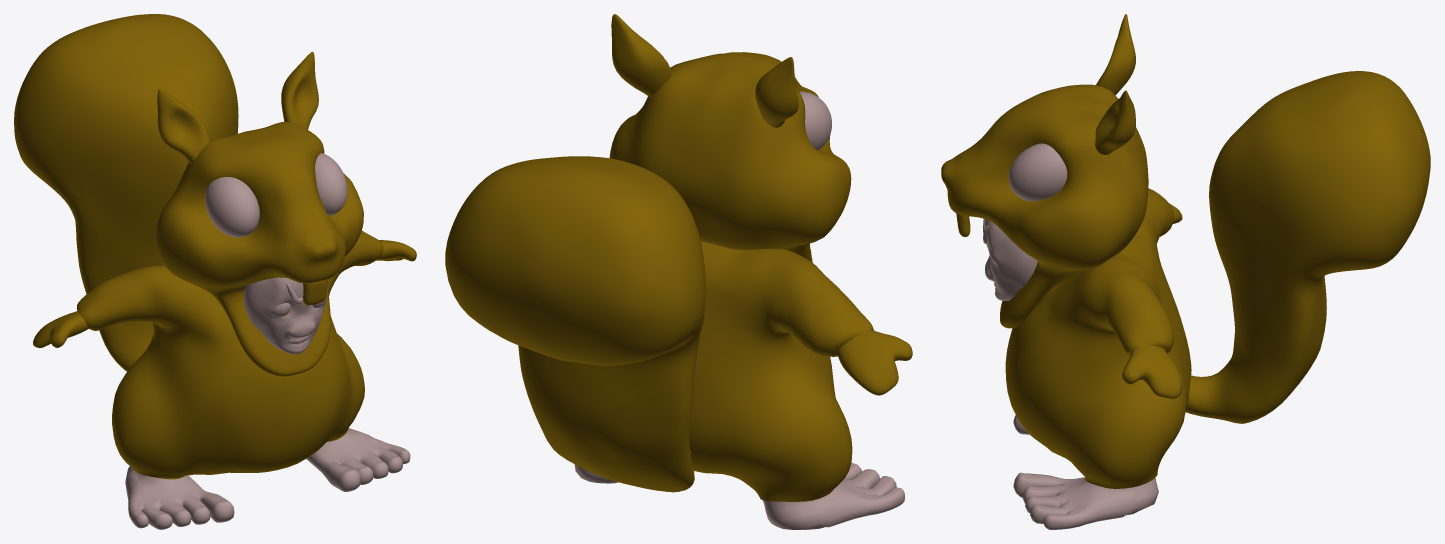
Rendered from Ecureuil_V5.fbx.
3 views of the same model, side by side, from view 1: azimuth 30°, elevation 25°; view 2: azimuth 150°, elevation 25°; view 3: azimuth 270°, elevation 25° (orthographic). The views are drawn at different scales.
Parts seen in each view (by area): view 1: PM3D_Cylinder3D1, polySurface5, PM3D_Cube3D1, polySurface9, PM3D_Sphere3D1_1, pCube2, polySurface8, polySurface7; view 2: PM3D_Cylinder3D1, polySurface5, PM3D_Cube3D1, polySurface9, polySurface7, PM3D_Sphere3D1_1; view 3: PM3D_Cylinder3D1, polySurface5, PM3D_Cube3D1, polySurface8, PM3D_Sphere3D1_1, pCube2, polySurface7.
Part boxes in pixels (x1=…): PM3D_Cylinder3D1: x1=14, y1=14, x2=238, y2=371; polySurface5: x1=77, y1=230, x2=383, y2=479; PM3D_Cube3D1: x1=155, y1=51, x2=363, y2=376; polySurface9: x1=125, y1=466, x2=234, y2=529; PM3D_Sphere3D1_1: x1=205, y1=153, x2=347, y2=237; pCube2: x1=244, y1=277, x2=326, y2=354; polySurface8: x1=306, y1=428, x2=410, y2=491; polySurface7: x1=33, y1=240, x2=416, y2=348; PM3D_Cylinder3D1: x1=445, y1=156, x2=705, y2=492; polySurface5: x1=689, y1=241, x2=873, y2=501; PM3D_Cube3D1: x1=609, y1=14, x2=851, y2=262; polySurface9: x1=762, y1=463, x2=904, y2=529; polySurface7: x1=837, y1=329, x2=912, y2=395; PM3D_Sphere3D1_1: x1=799, y1=91, x2=831, y2=150; PM3D_Cylinder3D1: x1=1185, y1=71, x2=1430, y2=423; polySurface5: x1=1005, y1=188, x2=1191, y2=488; PM3D_Cube3D1: x1=941, y1=14, x2=1148, y2=328; polySurface8: x1=1013, y1=472, x2=1158, y2=529; PM3D_Sphere3D1_1: x1=1008, y1=143, x2=1067, y2=201; pCube2: x1=984, y1=219, x2=1037, y2=300; polySurface7: x1=1122, y1=203, x2=1182, y2=398.
Size of the model in its own units: 139 by 145 by 156.
